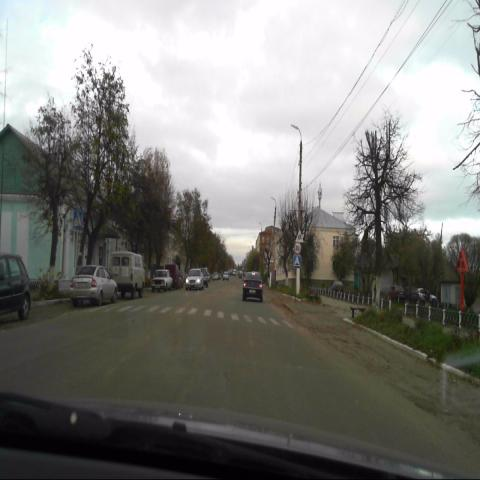1_23: (295, 228, 303, 242)
3_24: (294, 242, 301, 253)
5_19_1: (73, 209, 82, 229)
5_20: (292, 254, 300, 266)
